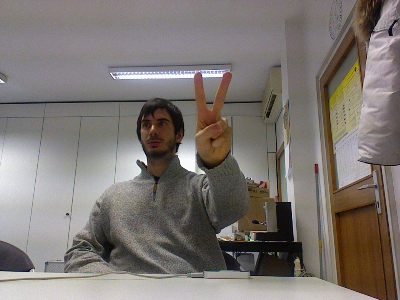剪刀: (192, 70, 234, 168)
